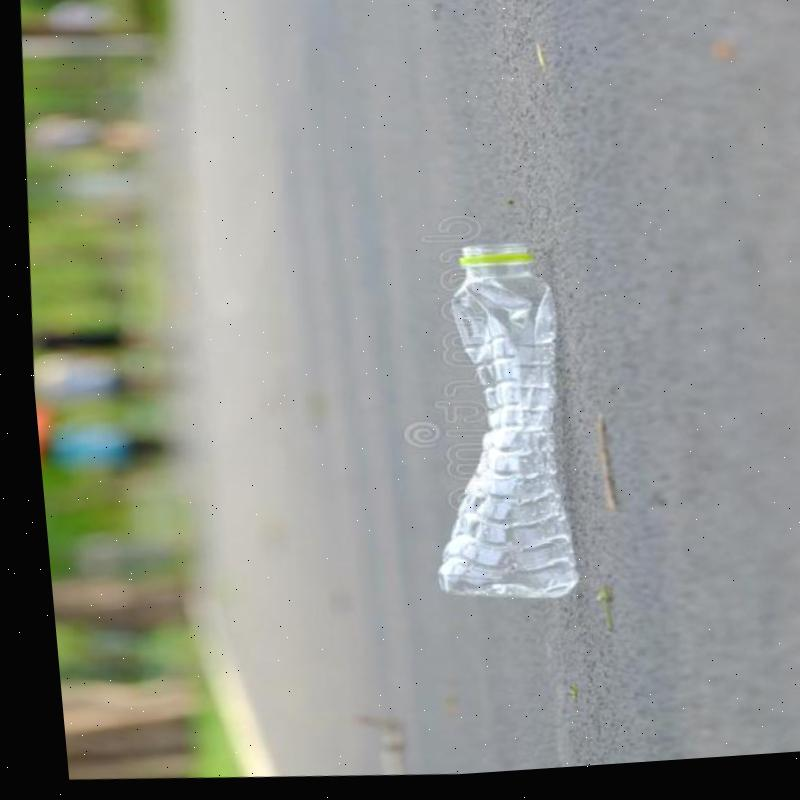botella: (400, 240, 584, 612)
